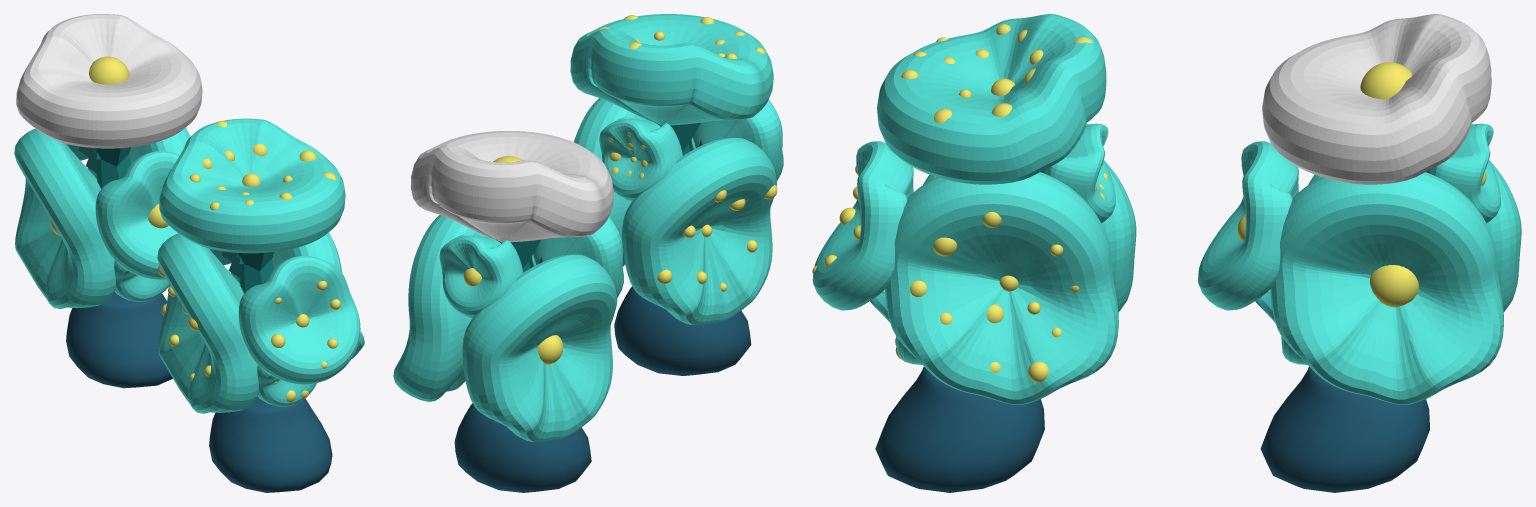
Rendered from mushroom.fbx.
3 views of the same model, side by side, from view 1: azimuth 30°, elevation 25°; view 2: azimuth 150°, elevation 25°; view 3: azimuth 270°, elevation 25° (orthographic). The views are drawn at different scales.
Visible parts, largest first — view 1: Cube.026, Cube.002, Cube.024, Cube.005, Cube.004, Cube, Cube.029, Cube.025, Cube.018, Cube.007, Cube.011, Cube.021 (+3 smaller); view 2: Cube.024, Cube.005, Cube.026, Cube.002, Cube.022, Cube.029, Cube, Cube.017, Cube.012, Cube.004, Cube.025, Cube.007 (+3 smaller); view 3: Cube.022, Cube.007, Cube.026, Cube.002, Cube, Cube.029, Cube.025, Cube.004, Cube.017, Cube.012, Cube.005, Cube.024 (+2 smaller).
Boxes of the visible parts, box(x1,y1,x2,y2) form: Cube.026: box(16, 14, 202, 148); Cube.002: box(159, 118, 345, 253); Cube.024: box(14, 128, 115, 308); Cube.005: box(157, 233, 258, 413); Cube.004: box(238, 255, 360, 384); Cube: box(209, 397, 332, 492); Cube.029: box(66, 292, 172, 388); Cube.025: box(95, 151, 179, 279); Cube.018: box(114, 260, 168, 301); Cube.007: box(231, 232, 364, 359); Cube.011: box(257, 365, 316, 406); Cube.021: box(95, 147, 131, 293); Cube.024: box(462, 254, 617, 441); Cube.005: box(622, 138, 776, 324); Cube.026: box(410, 131, 613, 242); Cube.002: box(570, 14, 773, 125); Cube.022: box(393, 215, 532, 401); Cube.029: box(454, 403, 591, 492); Cube: box(614, 286, 751, 375); Cube.017: box(439, 234, 523, 318); Cube.012: box(599, 117, 682, 201); Cube.004: box(692, 99, 783, 180); Cube.025: box(532, 216, 623, 297); Cube.007: box(574, 98, 692, 266); Cube.022: box(1270, 172, 1503, 404); Cube.007: box(885, 172, 1118, 404); Cube.026: box(1262, 14, 1491, 184); Cube.002: box(877, 14, 1106, 184); Cube: box(875, 366, 1044, 492); Cube.029: box(1260, 366, 1429, 492); Cube.025: box(1198, 141, 1298, 310); Cube.004: box(812, 141, 913, 310); Cube.017: box(1429, 123, 1500, 223); Cube.012: box(1044, 123, 1115, 223); Cube.005: box(923, 161, 1136, 311); Cube.024: box(1308, 161, 1521, 312).
Bounding box in the file's own units: 87.67 × 159 × 235.
